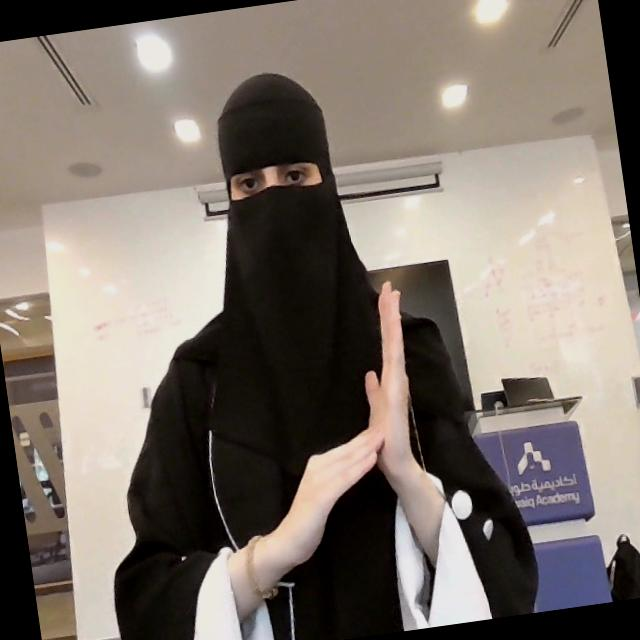complaint: (240, 274, 442, 578)
